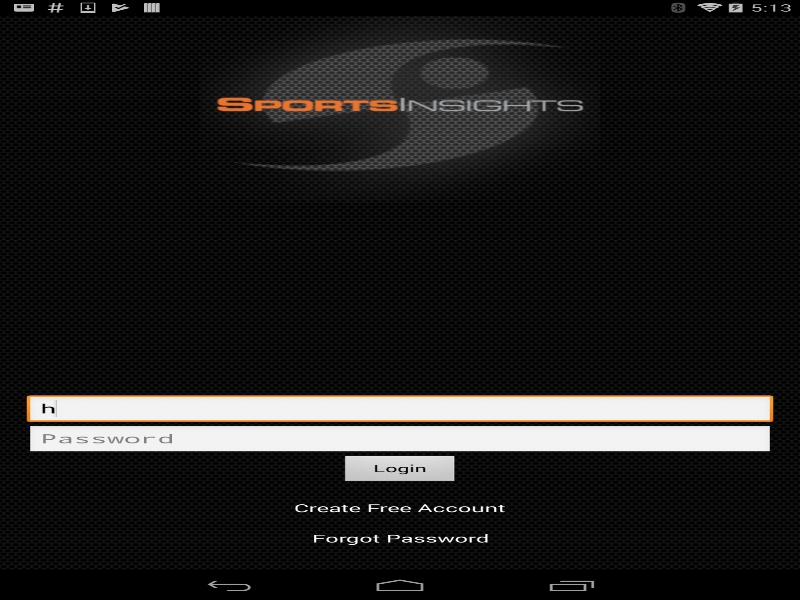Button: (294, 485, 505, 515), (311, 515, 488, 545), (340, 455, 459, 485)
Input: (26, 395, 773, 425), (26, 425, 773, 455)
